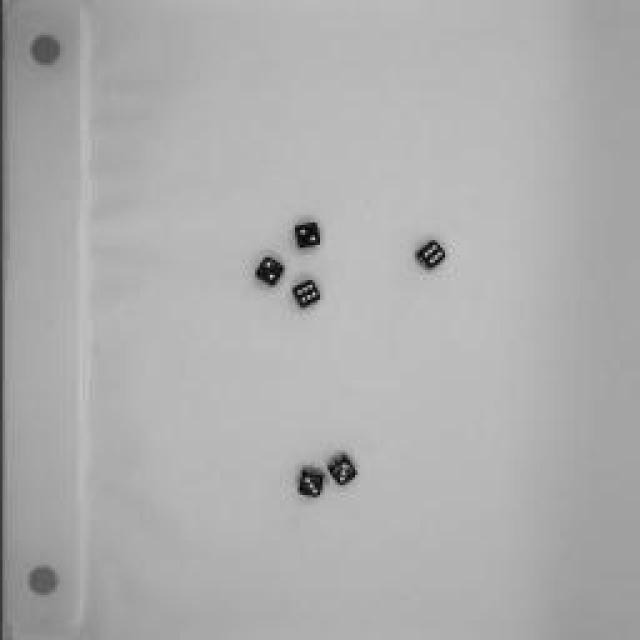dice_2: (250, 252, 288, 292), (288, 219, 324, 256)
dice_3: (291, 462, 331, 508), (321, 451, 361, 494)
dice_6: (411, 236, 451, 279), (286, 275, 326, 315)
